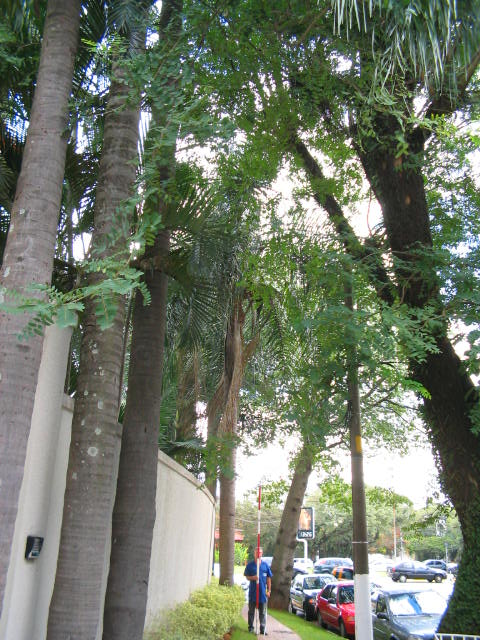stick: (249, 485, 266, 635)
